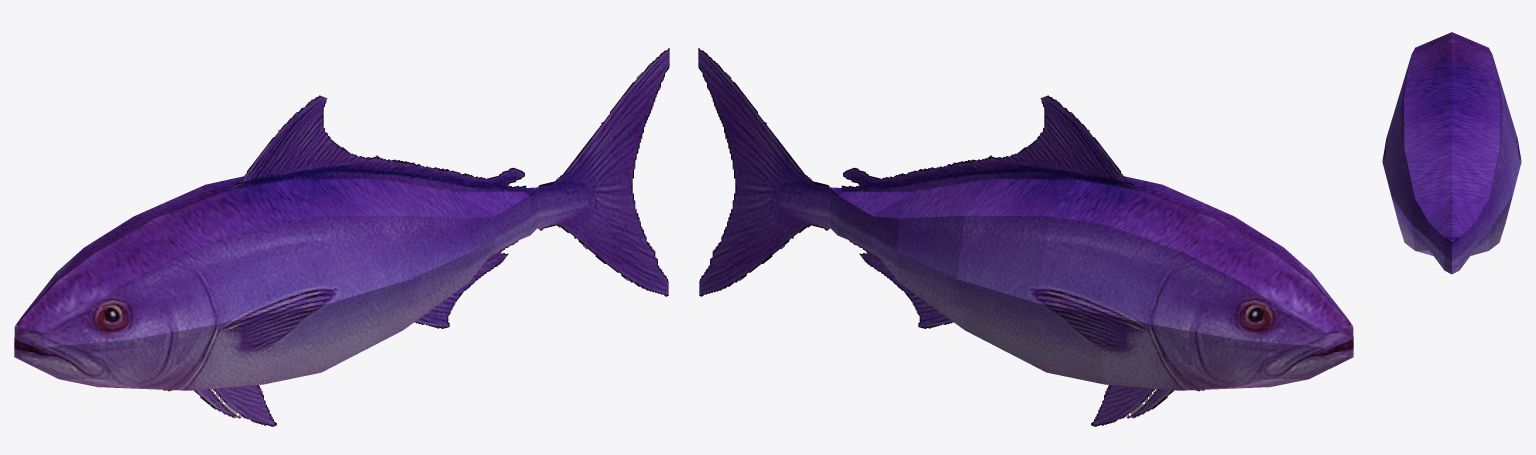
The model's file is Sparkleblaze.fbx.
3 views of the same model, side by side, from view 1: azimuth 30°, elevation 25°; view 2: azimuth 150°, elevation 25°; view 3: azimuth 270°, elevation 25° (orthographic). The views are drawn at different scales.
Parts seen in each view (by area): view 1: Tuna; view 2: Tuna; view 3: Tuna.
Boxes of the visible parts, x1,y1,x2,y2 form: Tuna: [14, 48, 669, 426]; Tuna: [698, 48, 1353, 426]; Tuna: [1382, 32, 1521, 274].
Size of the model in its own units: 179 by 90.23 by 40.63.
Materials: 1 (1 with a texture image).
